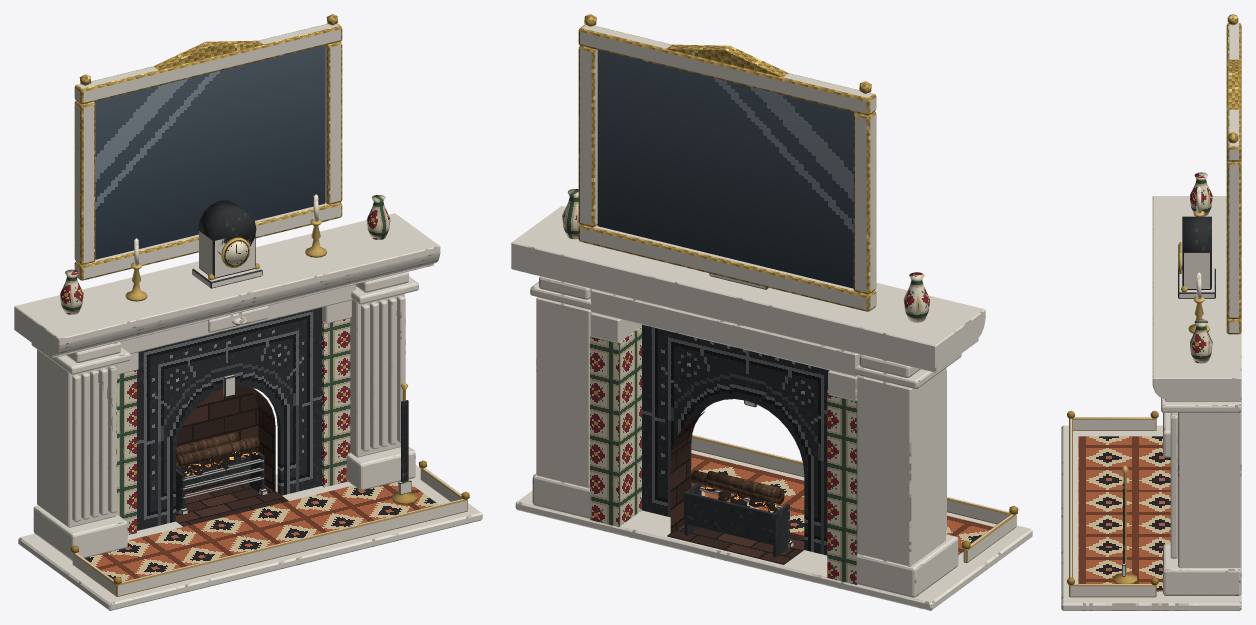
Rendered from fireplace.glb.
The picture shows the model from 3 angles, left to right: view 1: azimuth 30°, elevation 25°; view 2: azimuth 150°, elevation 25°; view 3: azimuth 270°, elevation 25°; orthographic projection. The views are drawn at different scales.
Parts seen in each view (by area): view 1: Fireplace; view 2: Fireplace; view 3: Fireplace.
Boxes of the visible parts, <box> form: Fireplace: <box>14,14,482,610</box>; Fireplace: <box>511,14,1032,610</box>; Fireplace: <box>1061,14,1241,610</box>.
Size of the model in its own units: 2.04 by 2.34 by 0.85.
14 materials, 14 textured.
